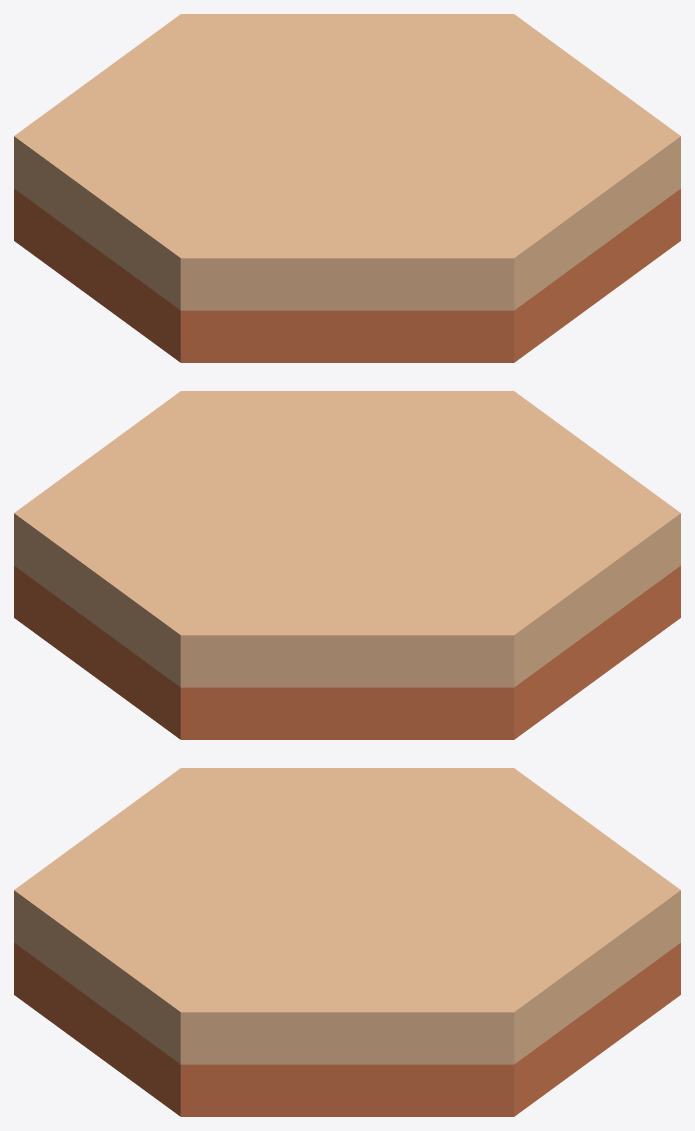
The model's file is sand.fbx.
3 views of the same model, one above another, from view 1: azimuth 30°, elevation 25°; view 2: azimuth 150°, elevation 25°; view 3: azimuth 270°, elevation 25° (orthographic).
Visible parts, largest first — view 1: sand; view 2: sand; view 3: sand.
Boxes of the visible parts, x1,y1,x2,y2 form: sand: (14,14,680,362); sand: (14,391,680,739); sand: (14,768,680,1116).
Bounding box in the file's own units: 10 × 2 × 11.55.
